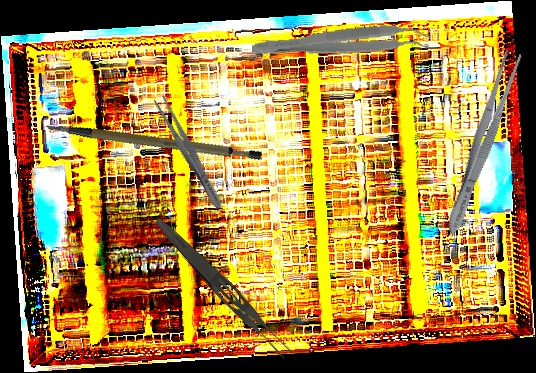Dressing Forceps: (148, 214, 296, 363), (440, 46, 526, 238), (151, 94, 227, 212)
Scalpel Handle: (42, 89, 265, 189)
Tissue Forceps: (251, 21, 431, 67)
